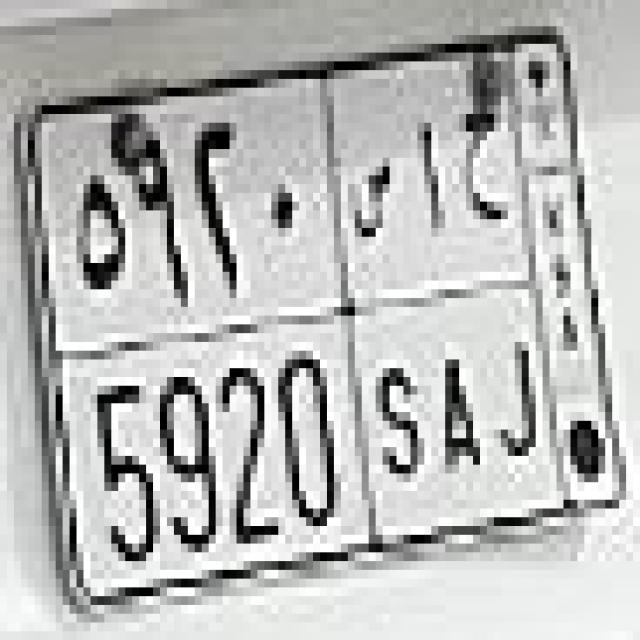license_plate: (15, 42, 639, 596), (77, 347, 540, 561)
